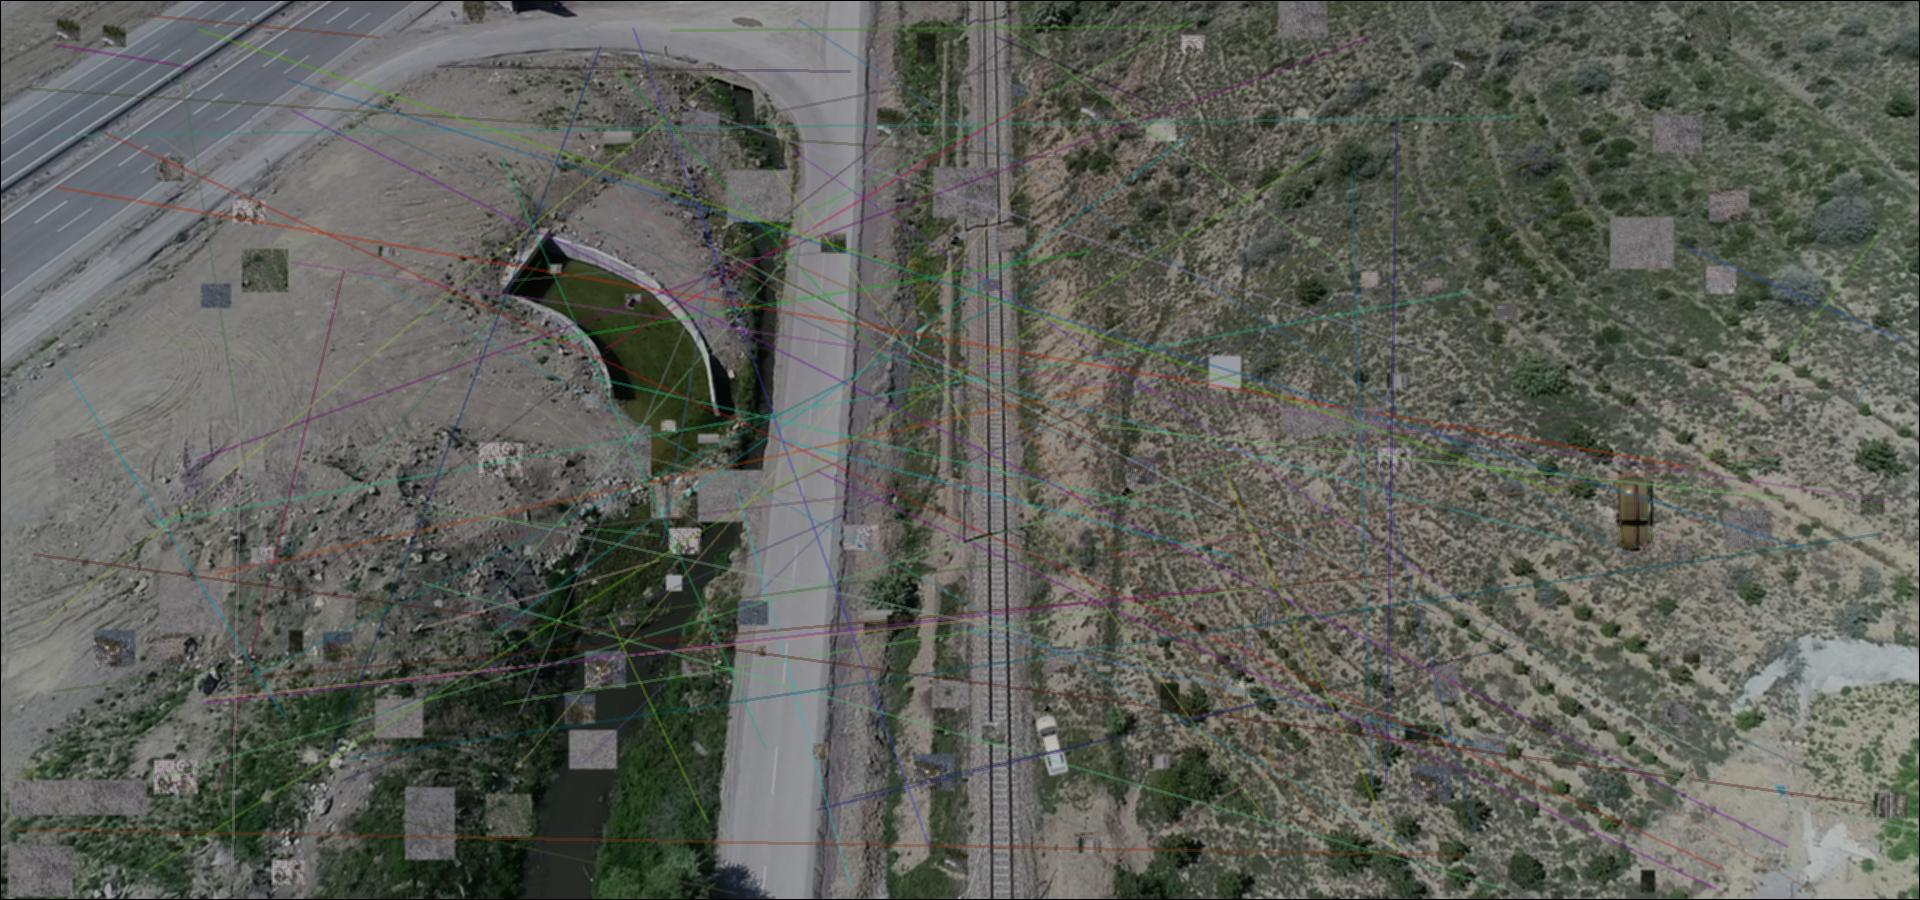arac: (1611, 462, 1654, 560), (1033, 711, 1071, 776)
